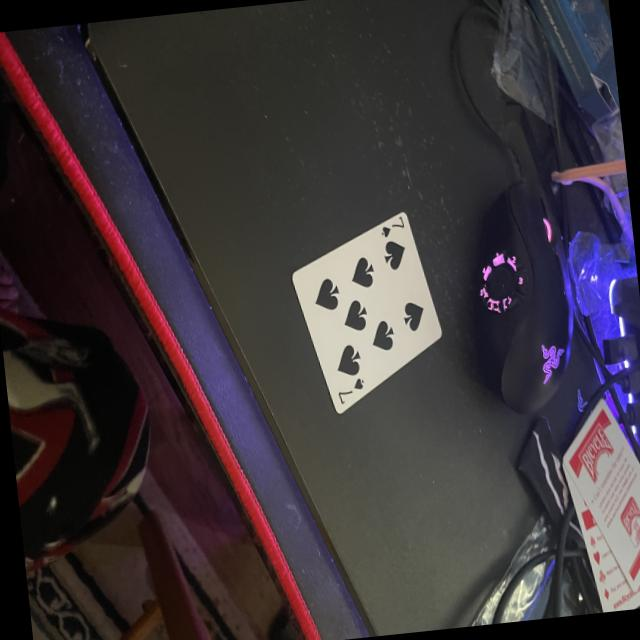7 of spades: (288, 212, 444, 419)
